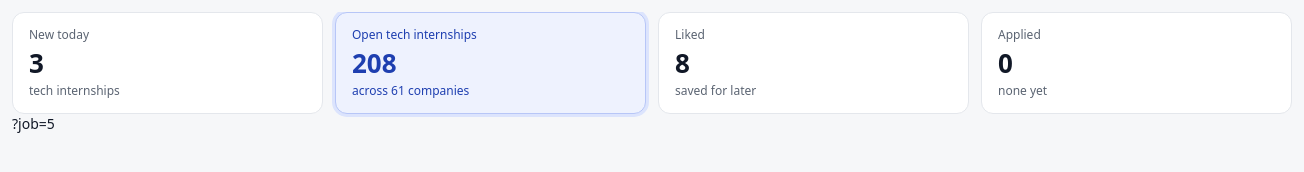
Scenario: keeps the open job when a tile is clicked
Expected: the button "New today 3 tech internships" is shown, 12,12 -> 323,114
Click the button "Liked 8 saved for later" at (716, 90), box 658,12 -> 969,114
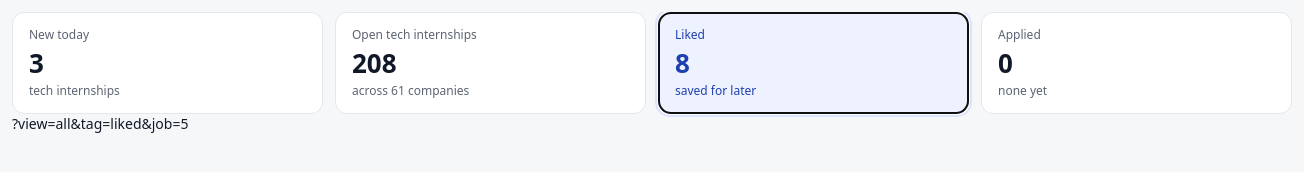
Expected: the text with test id "query" reads "?view=all&tag=liked&job=5", 12,114 -> 188,133
